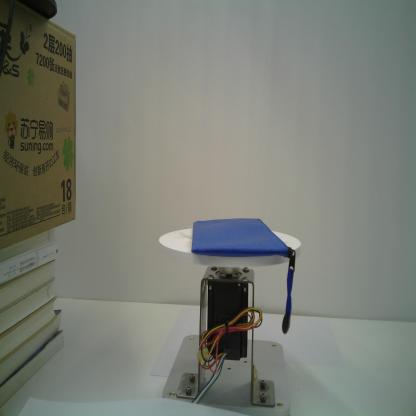Stationery: (191, 218, 289, 257)
